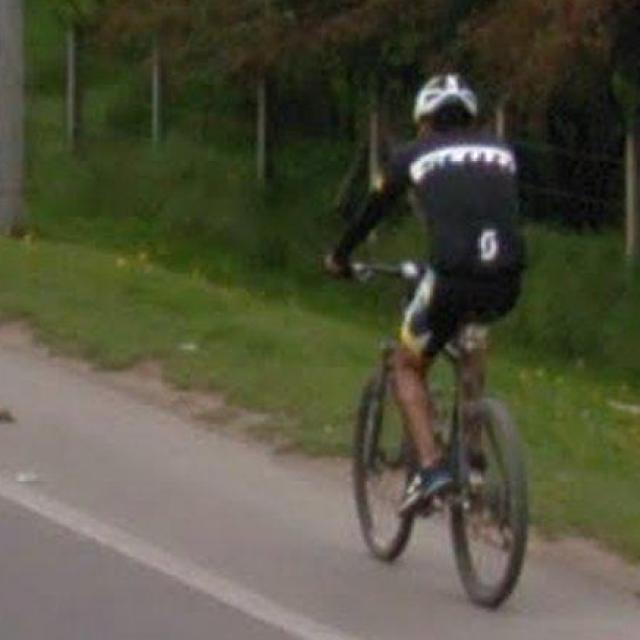bicycle: (431, 342, 531, 610), (355, 345, 420, 563)
